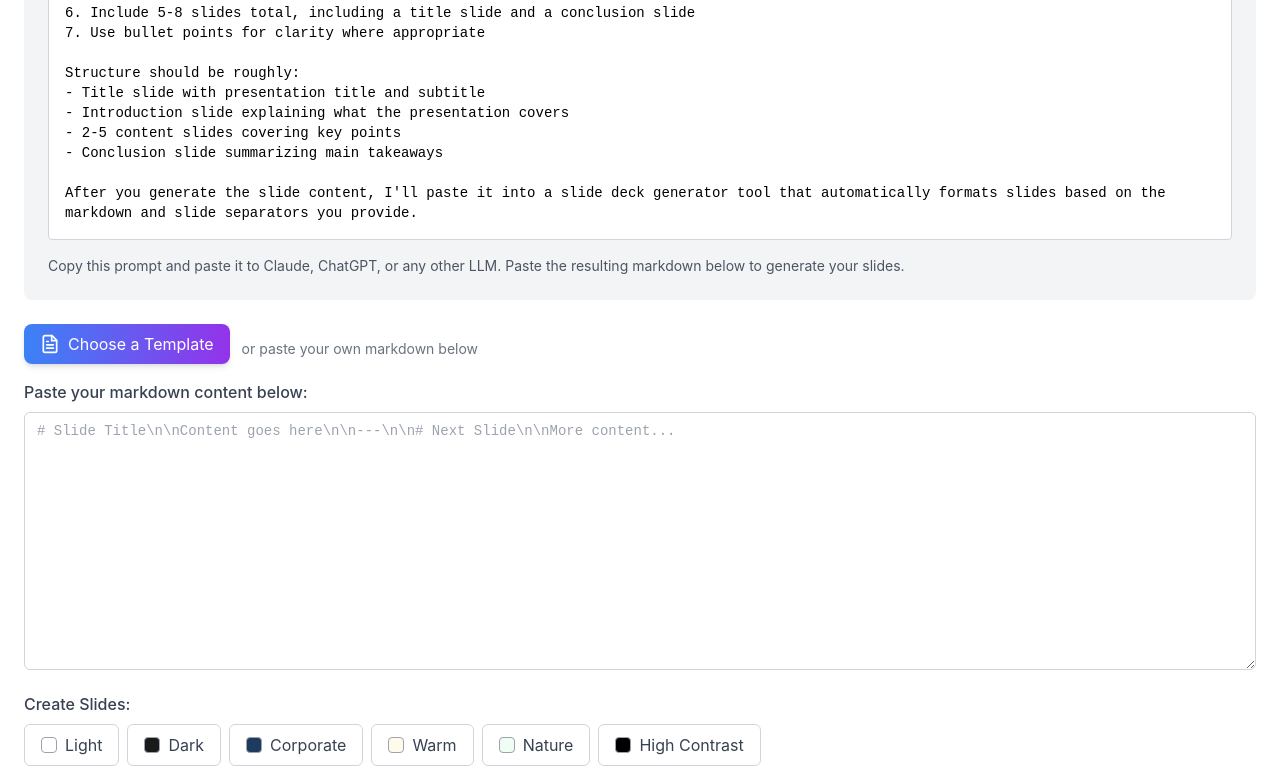
Test: MarkdownForm › theme submission › shows error when submitting empty content
(page scrolled)
Click the button "Light": (72, 745) [24, 724, 119, 766]
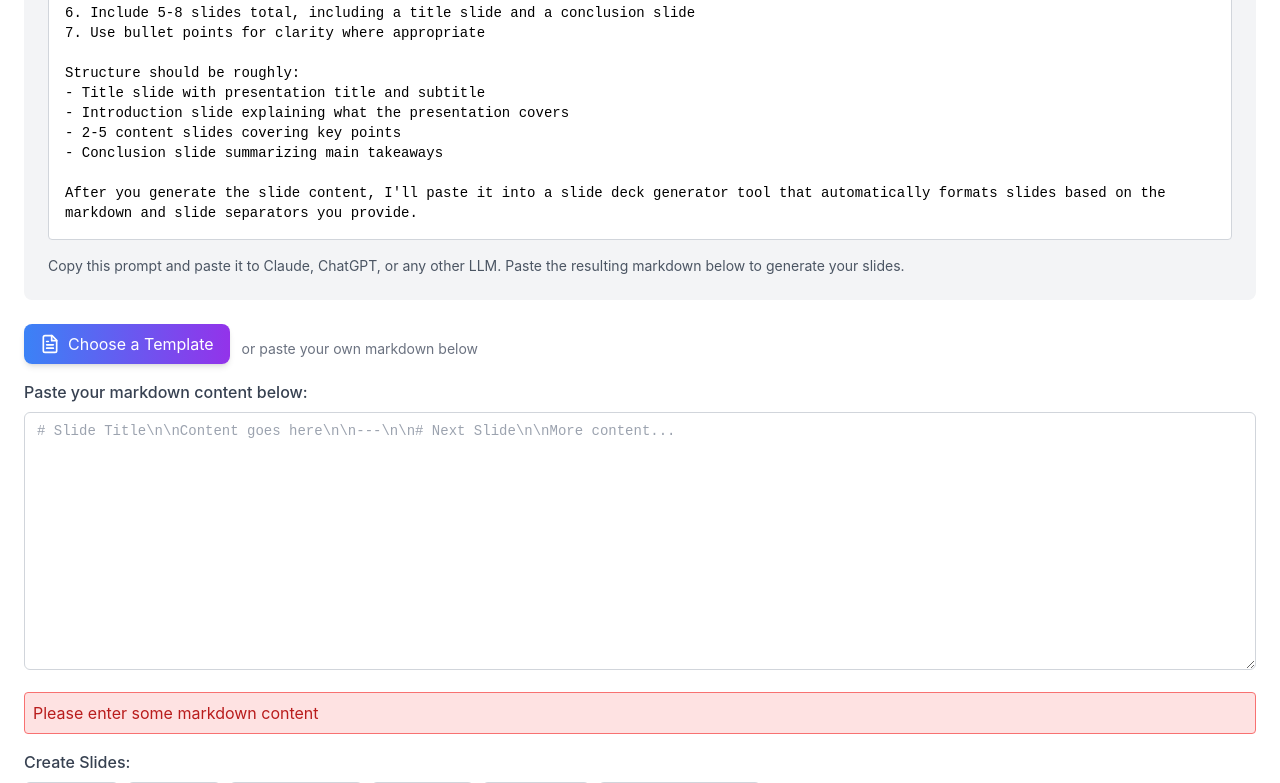
Expected: the text "Please enter some markdown content" is shown, [24, 692, 1256, 734]
